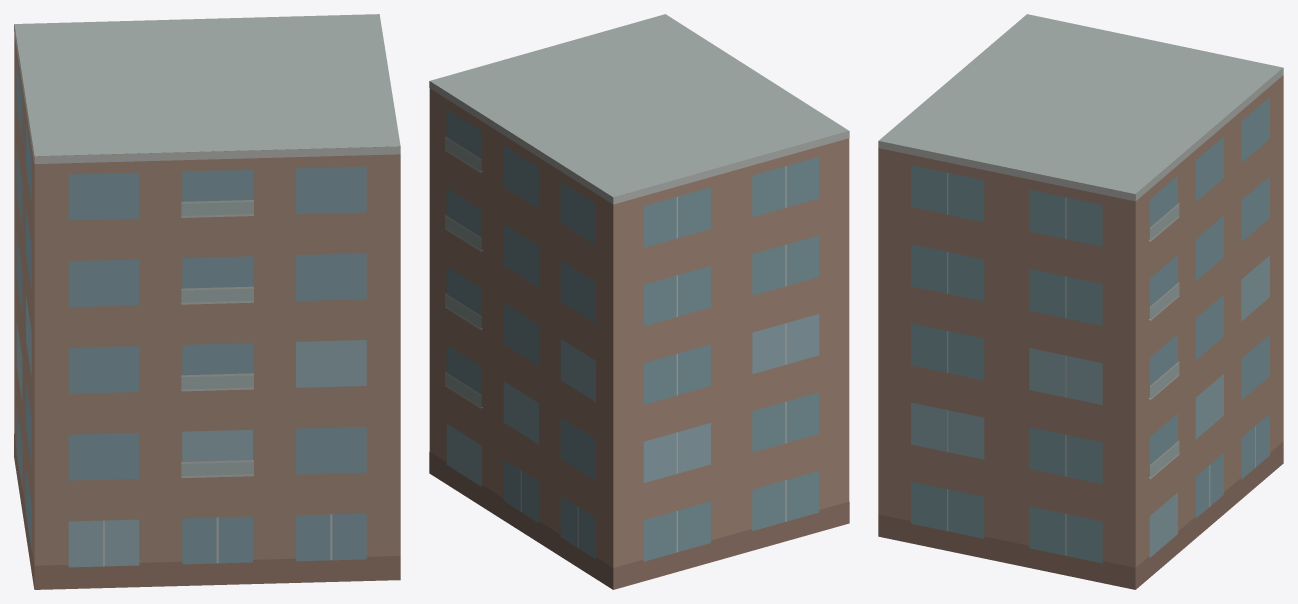
Rendered from survey-upis-32929525.glb.
3 renders of one model, left to right at view 1: azimuth 30°, elevation 25°; view 2: azimuth 150°, elevation 25°; view 3: azimuth 270°, elevation 25°, orthographic. The views are drawn at different scales.
Visible parts, largest first — view 1: survey-upis-32929525.tmp; view 2: survey-upis-32929525.tmp; view 3: survey-upis-32929525.tmp.
Boxes of the visible parts, x1=… form: survey-upis-32929525.tmp: x1=14, y1=14, x2=400, y2=589; survey-upis-32929525.tmp: x1=429, y1=14, x2=849, y2=589; survey-upis-32929525.tmp: x1=878, y1=14, x2=1283, y2=589.
Size of the model in its own units: 12.99 by 13.3 by 12.35.
